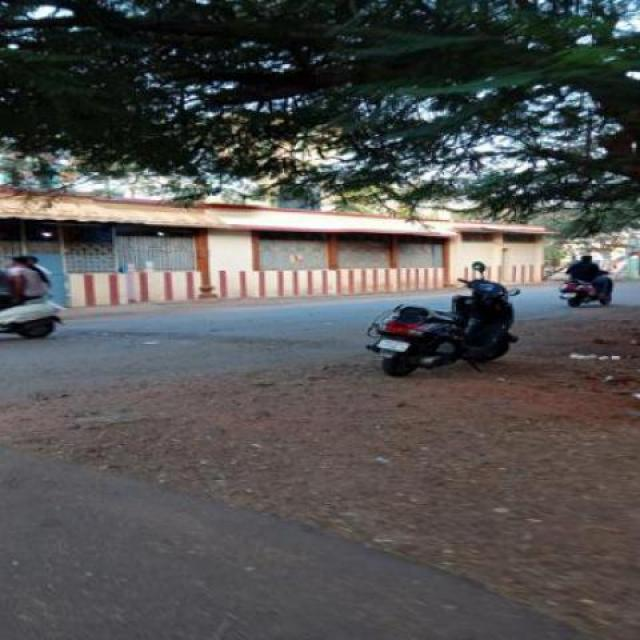Unmarked Bump: (56, 326, 366, 351)
